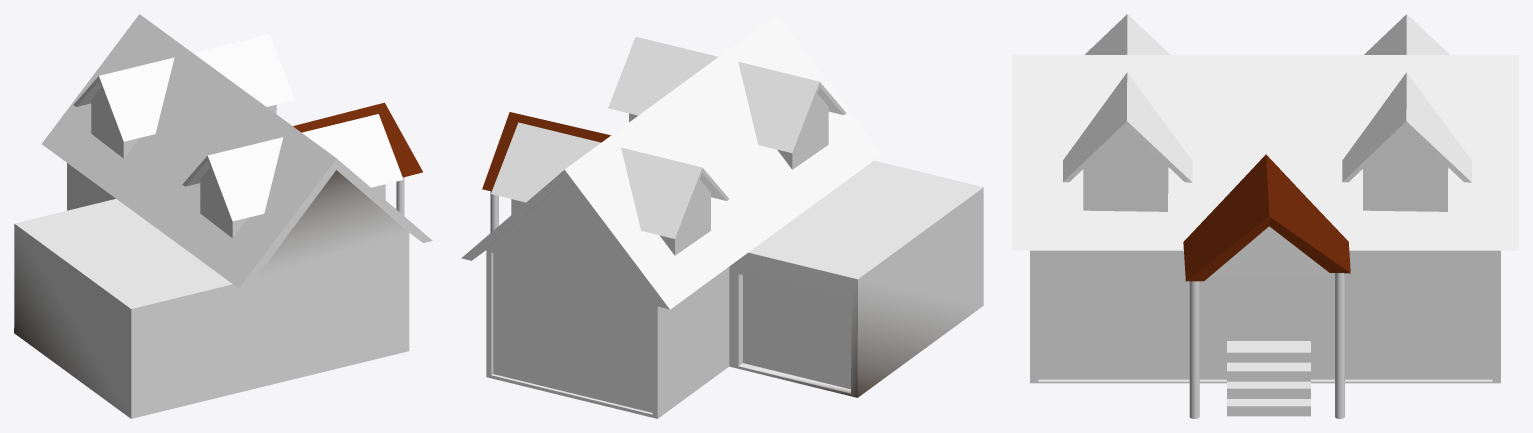
The model's file is FBX_Background_House.fbx.
3 renders of one model, left to right at view 1: azimuth 30°, elevation 25°; view 2: azimuth 150°, elevation 25°; view 3: azimuth 270°, elevation 25°, orthographic. The views are drawn at different scales.
Visible parts, largest first — view 1: body, roof, roof.002, roof.003, roof.001, body.003, body.002; view 2: body, roof, roof.003, roof.002, roof.001, body.002, body.003; view 3: roof, body, roof.001, roof.002, roof.003, stairs, body.003, body.002, body.001, Cylinder.001, Cylinder.
Part boxes in pixels (left/top/right/bottom): body: left=14, top=163, right=409, bottom=418; roof: left=42, top=14, right=432, bottom=288; roof.002: left=182, top=114, right=403, bottom=221; roof.003: left=74, top=34, right=294, bottom=141; roof.001: left=293, top=102, right=422, bottom=177; body.003: left=200, top=167, right=385, bottom=238; body.002: left=91, top=87, right=276, bottom=158; body: left=486, top=160, right=983, bottom=418; roof: left=461, top=14, right=882, bottom=309; roof.003: left=491, top=122, right=728, bottom=238; roof.002: left=608, top=36, right=846, bottom=152; roof.001: left=482, top=112, right=610, bottom=191; body.002: left=511, top=180, right=710, bottom=255; body.003: left=629, top=93, right=828, bottom=169; roof: left=1012, top=55, right=1518, bottom=250; body: left=1030, top=250, right=1500, bottom=383; roof.001: left=1183, top=154, right=1350, bottom=281; roof.002: left=1063, top=14, right=1192, bottom=182; roof.003: left=1342, top=14, right=1471, bottom=182; stairs: left=1227, top=341, right=1310, bottom=416; body.003: left=1083, top=128, right=1168, bottom=211; body.002: left=1363, top=127, right=1448, bottom=211; body.001: left=1209, top=226, right=1328, bottom=277; Cylinder.001: left=1189, top=281, right=1199, bottom=418; Cylinder: left=1335, top=273, right=1344, bottom=418.
Size of the model in its own units: 888 by 522 by 860.
